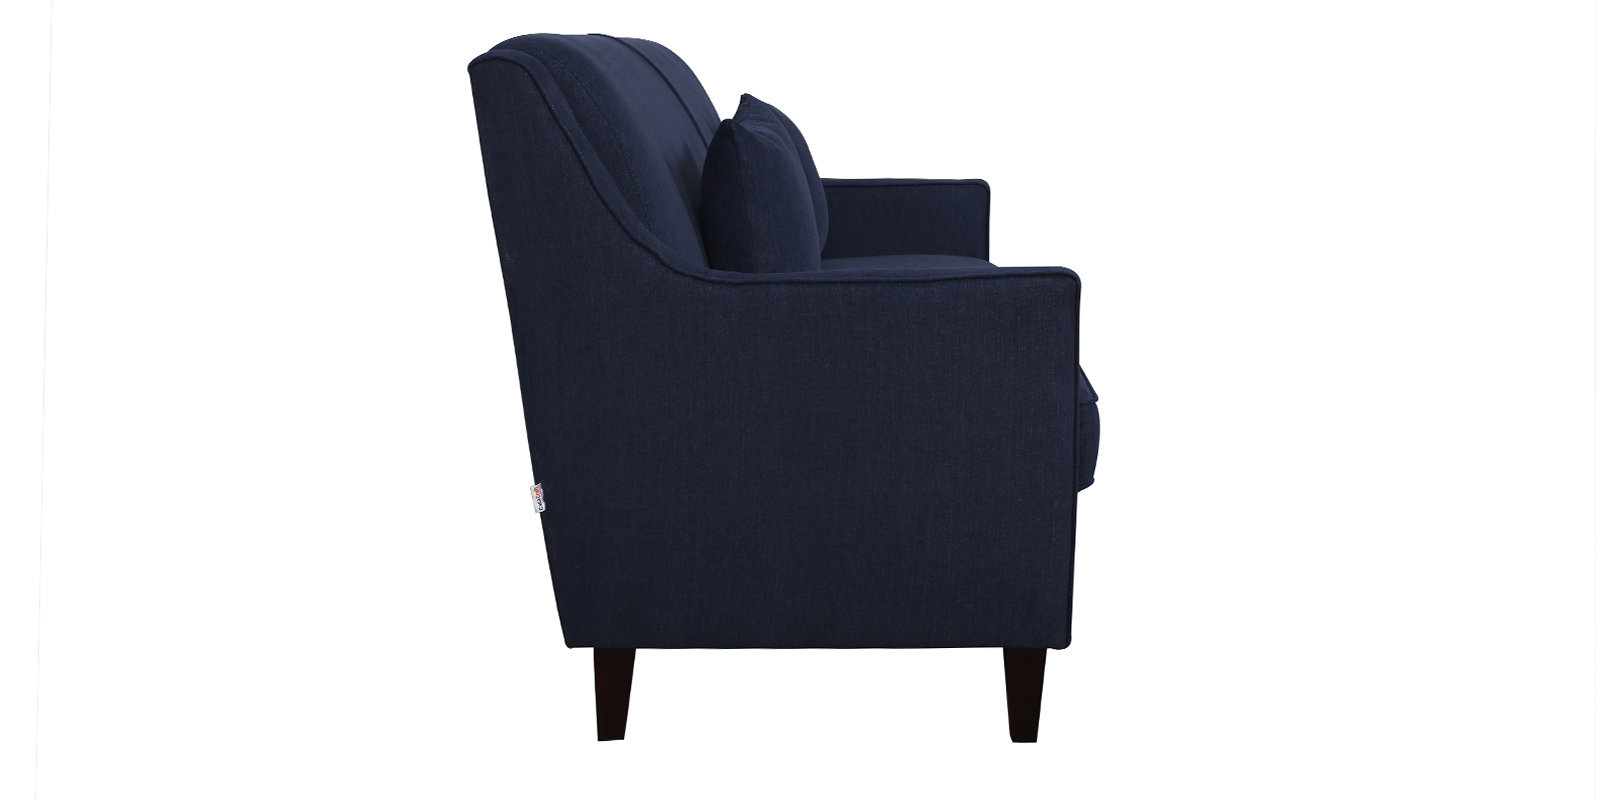Oscar Three Seater Sofa in Navy Blue Colour by CasaCraft: (464, 34, 1100, 741)
